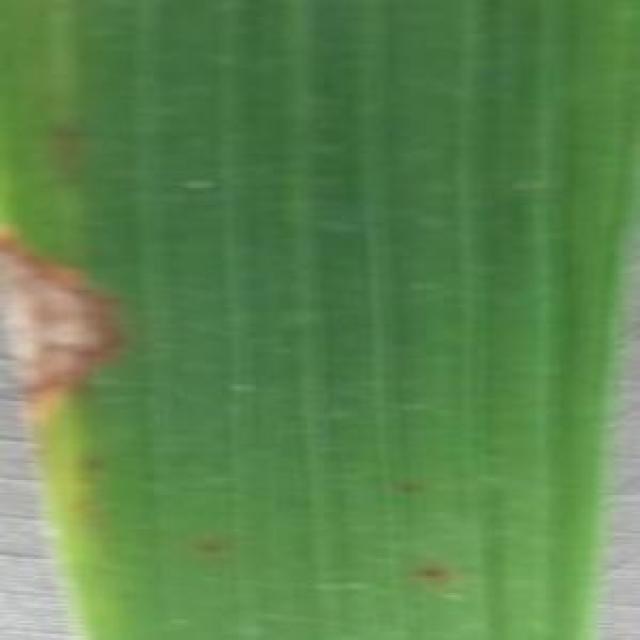Blast: (2, 254, 115, 392)
